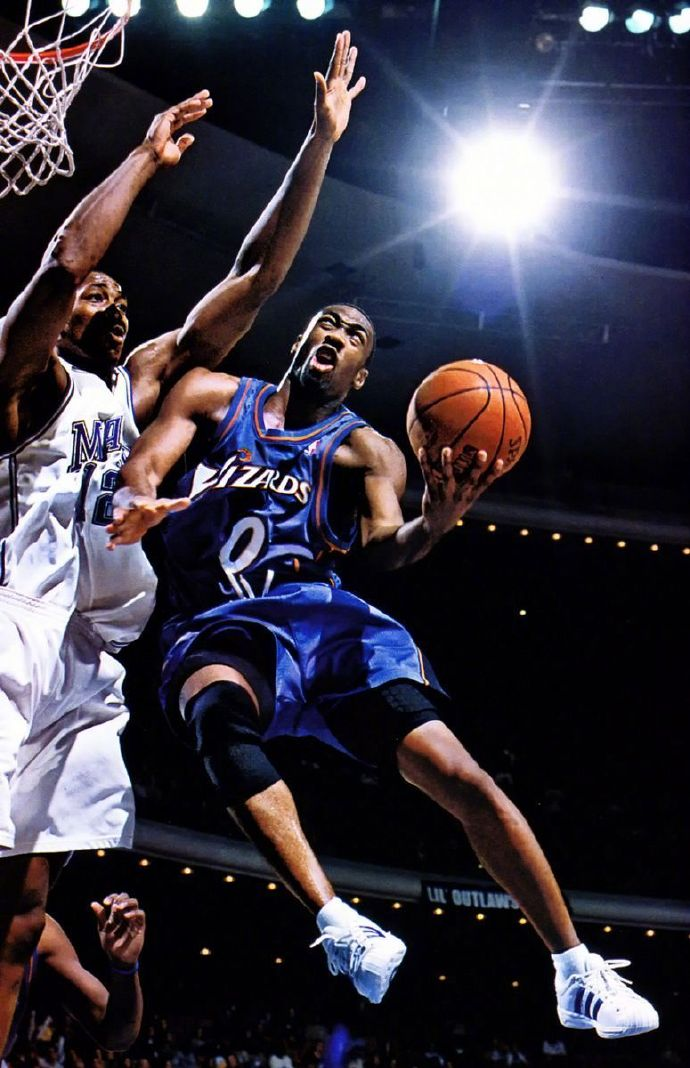ball: (403, 358, 533, 487), (443, 124, 567, 244)
